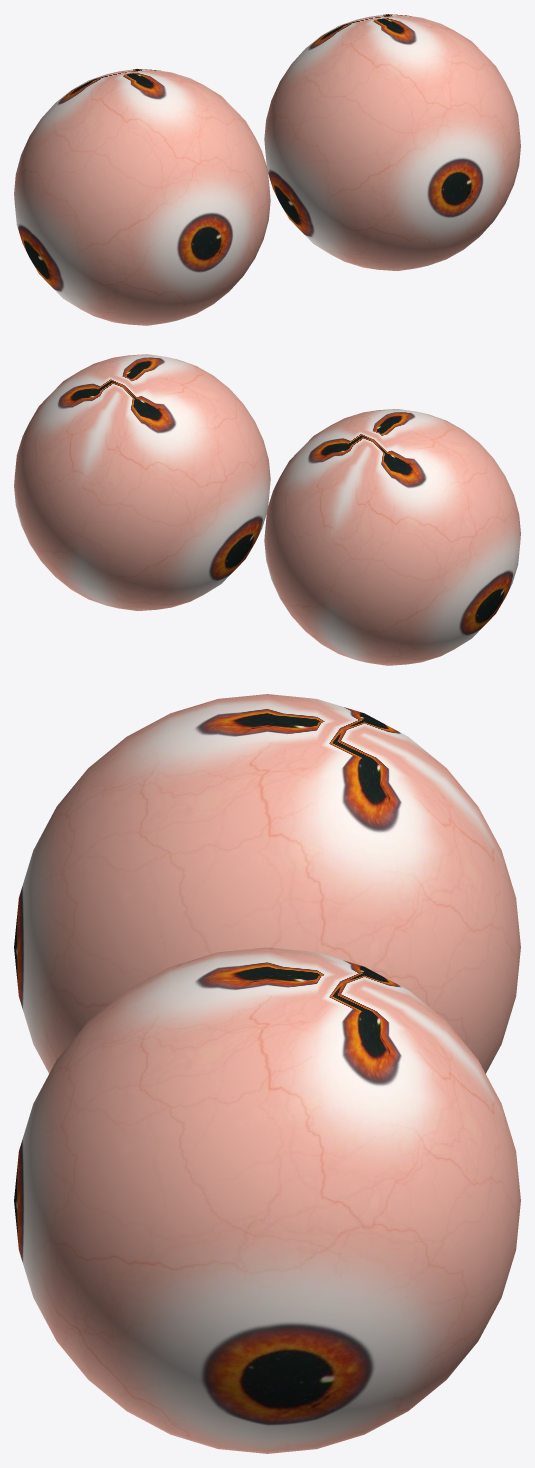
Rendered from locker_eyes.glb.
The picture shows the model from 3 angles, top to bottom: view 1: azimuth 30°, elevation 25°; view 2: azimuth 150°, elevation 25°; view 3: azimuth 270°, elevation 25°; orthographic projection. The views are drawn at different scales.
Visible parts, largest first — view 1: Sphere.008, Sphere.005; view 2: Sphere.008, Sphere.005; view 3: Sphere.005, Sphere.008.
Part boxes in pixels (x1=…): Sphere.008: x1=14, y1=69, x2=270, y2=325; Sphere.005: x1=264, y1=14, x2=520, y2=270; Sphere.008: x1=264, y1=409, x2=520, y2=665; Sphere.005: x1=14, y1=354, x2=270, y2=610; Sphere.005: x1=14, y1=947, x2=520, y2=1453; Sphere.008: x1=14, y1=694, x2=520, y2=1073.
Size of the model in its own units: 0.1138 by 0.0551 by 0.0536.
Materials: 1 (1 with a texture image).
